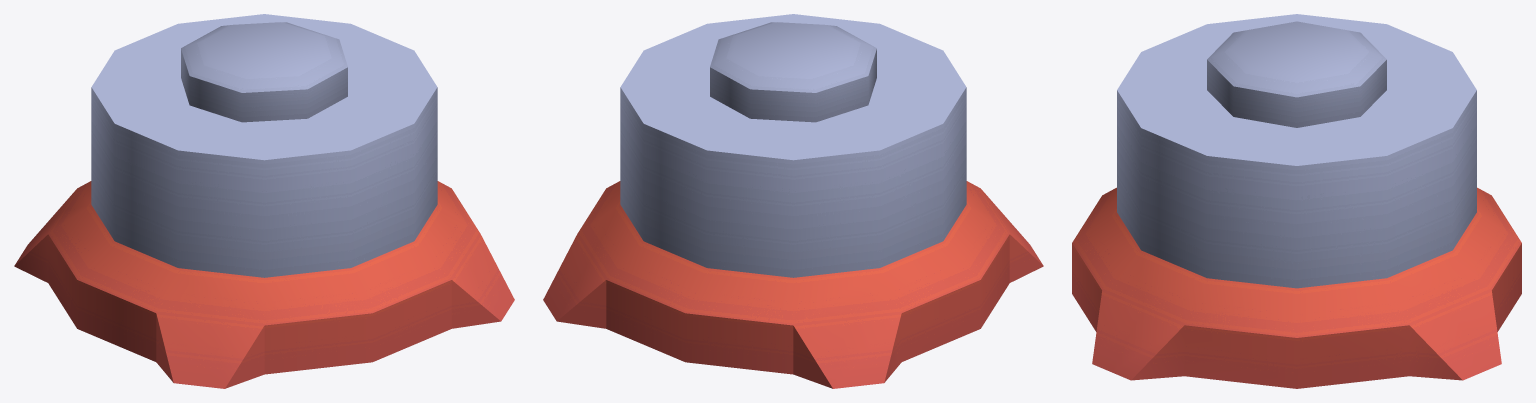
File: tower-defense-kit--tower-round-bottom-b.glb
3 views of the same model, side by side, from view 1: azimuth 30°, elevation 25°; view 2: azimuth 150°, elevation 25°; view 3: azimuth 270°, elevation 25° (orthographic). The views are drawn at different scales.
Parts seen in each view (by area): view 1: tower-round-bottom-b; view 2: tower-round-bottom-b; view 3: tower-round-bottom-b.
Part boxes in pixels (<box>): tower-round-bottom-b: <box>14,14,514,388</box>; tower-round-bottom-b: <box>543,14,1043,388</box>; tower-round-bottom-b: <box>1072,14,1521,388</box>.
Size of the model in its own units: 1 by 0.6 by 1.
Materials: 1 (1 with a texture image).
